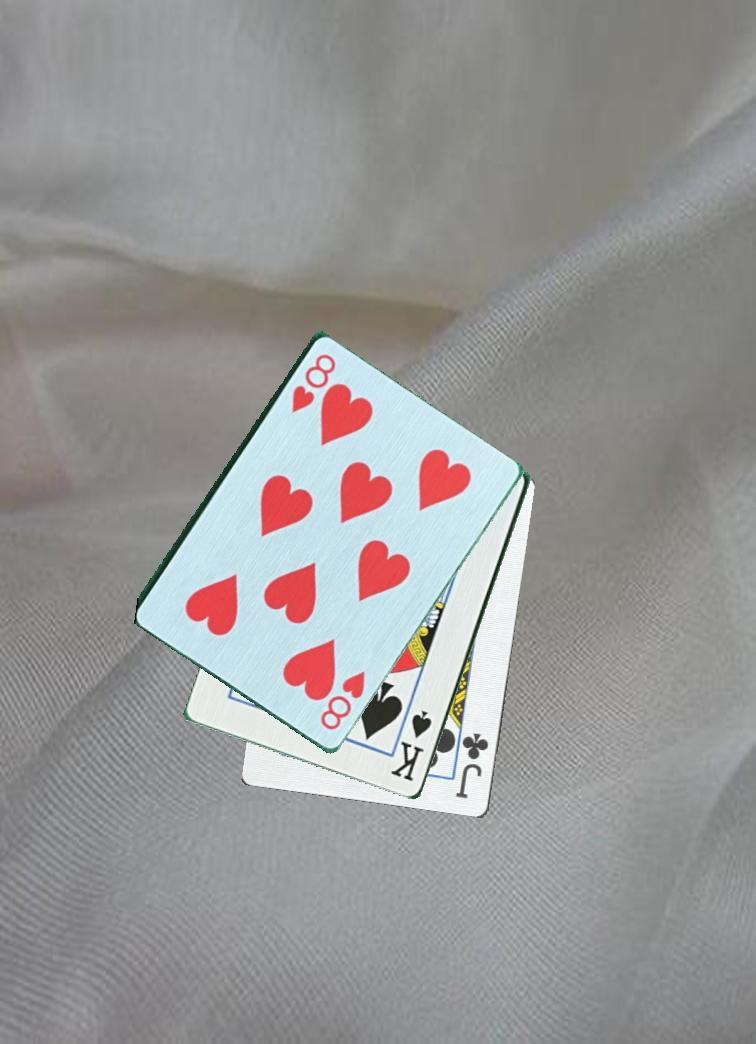8h: (283, 350, 340, 422), (316, 668, 369, 734)
jc: (454, 729, 492, 802)
ks: (388, 707, 436, 785)
